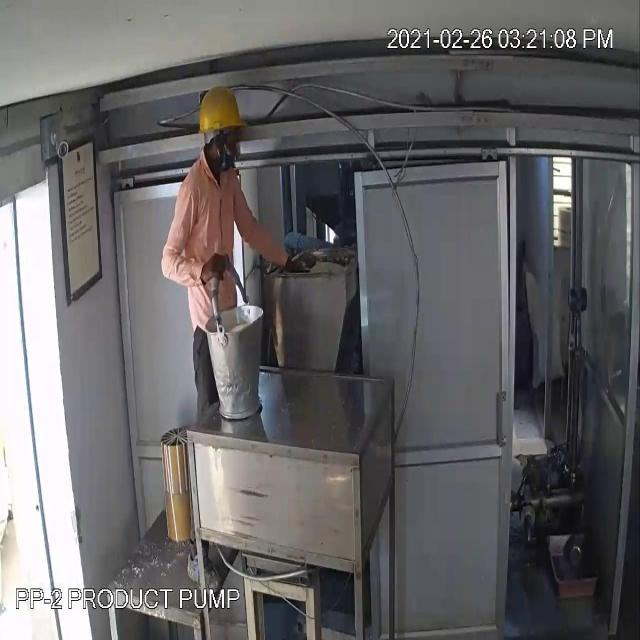helmet: (187, 82, 254, 146)
